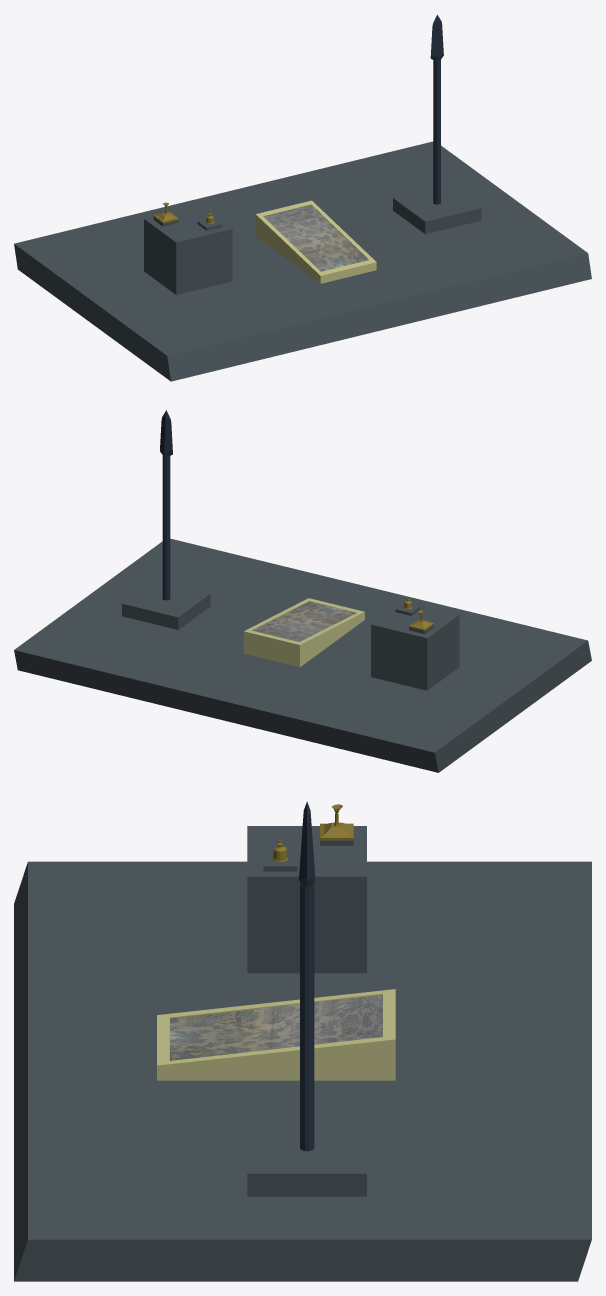
The model's file is Etalase_4.fbx.
3 views of the same model, one above another, from view 1: azimuth 30°, elevation 25°; view 2: azimuth 150°, elevation 25°; view 3: azimuth 270°, elevation 25° (orthographic). The views are drawn at different scales.
Visible parts, largest first — view 1: E4 Fondasi, E4 Batik Drajat, E4 Tombak; view 2: E4 Fondasi, E4 Batik Drajat, E4 Tombak; view 3: E4 Fondasi, E4 Batik Drajat, E4 Tombak, E4 Jadhug.
Boxes of the visible parts, bbox=[...] form: E4 Fondasi: bbox=[14, 141, 591, 381]; E4 Batik Drajat: bbox=[255, 200, 376, 283]; E4 Tombak: bbox=[430, 14, 443, 204]; E4 Fondasi: bbox=[14, 538, 591, 772]; E4 Batik Drajat: bbox=[243, 598, 364, 667]; E4 Tombak: bbox=[160, 410, 172, 600]; E4 Fondasi: bbox=[14, 826, 591, 1281]; E4 Batik Drajat: bbox=[157, 989, 395, 1080]; E4 Tombak: bbox=[299, 801, 315, 1151]; E4 Jadhug: bbox=[320, 804, 353, 840].
Size of the model in its own units: 500 by 255 by 323.
5 materials, 1 textured.
